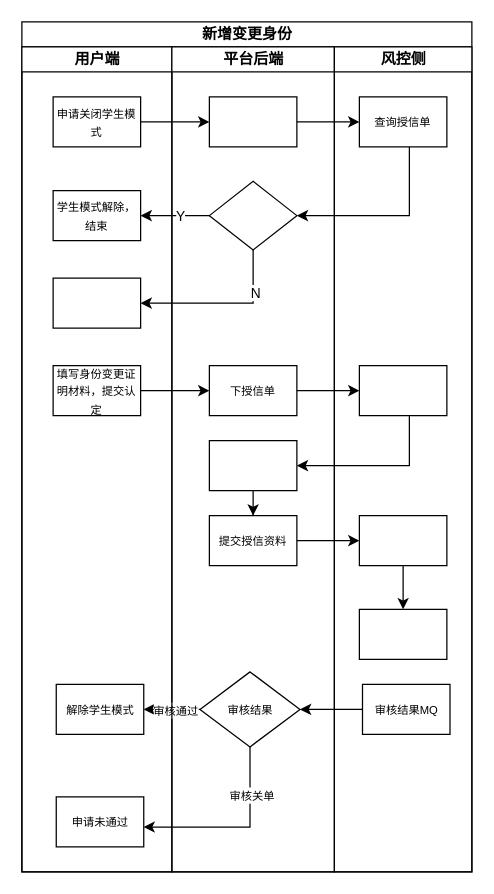
This 494x894 diagram has some shape labels left out. Here are the shapes that lost their labels. From the top down, the box of each, then its label:
(208, 96, 297, 147): 查询最近一笔学生补资料授信单
(208, 180, 297, 250): 是否授信成功
(52, 277, 141, 328): 非学生身份认定
(358, 364, 447, 416): 创建授信单
(208, 439, 297, 491): 授信单号
(358, 514, 447, 566): 保存授信资料
(358, 608, 447, 659): 审核授信资料
